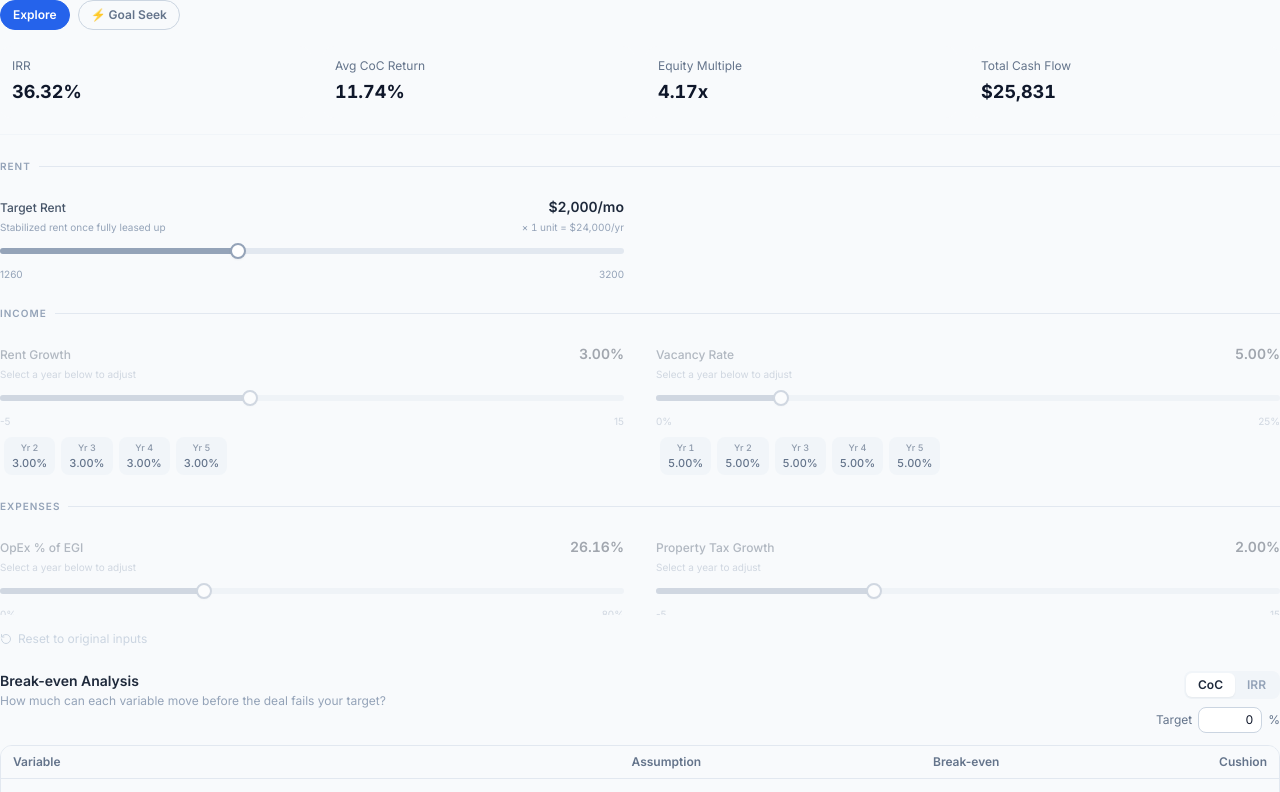
WhatIfPanel break-even mode toggle › switching back to CoC mode restores "n/a for CoC"
Click the button "IRR". click: (1256, 685)
box: [1235,673,1278,697]
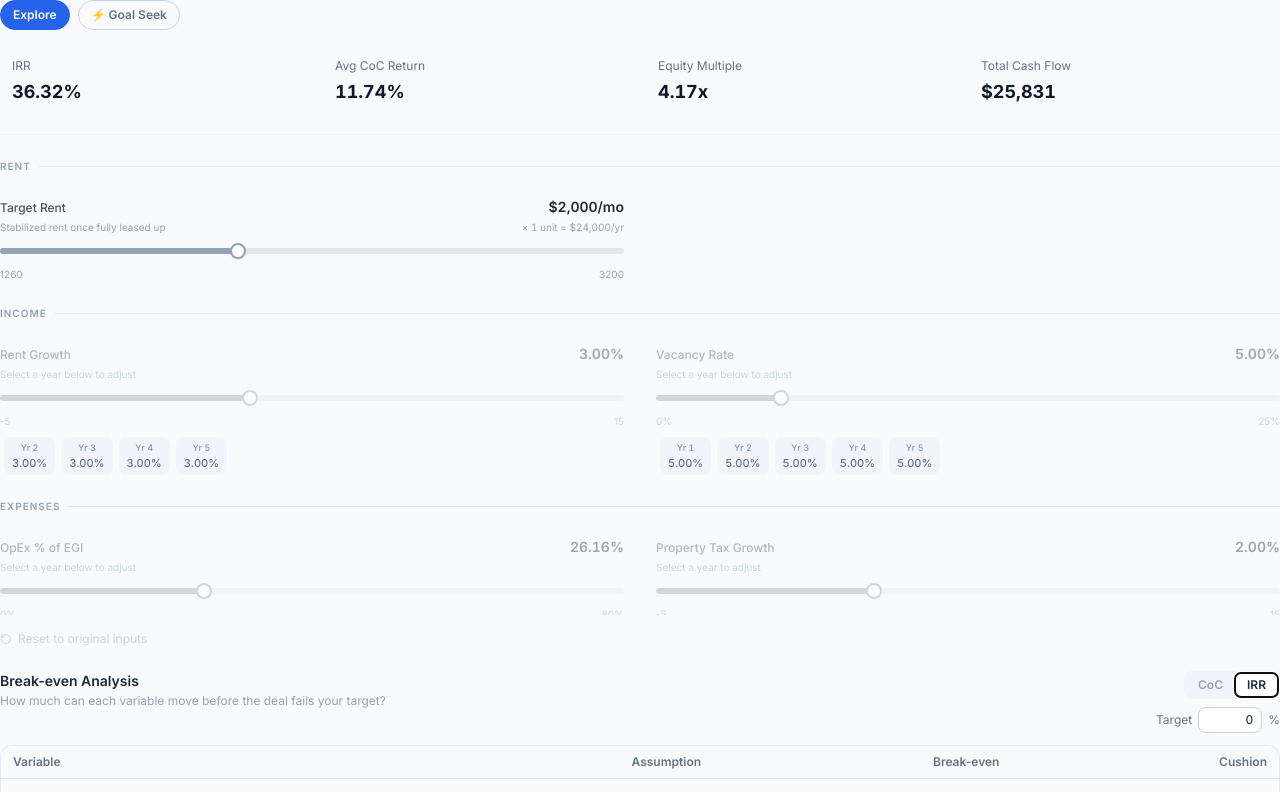
Click the button "CoC". click: (1210, 685)
box: [1186,673,1235,697]
(page scrolled)
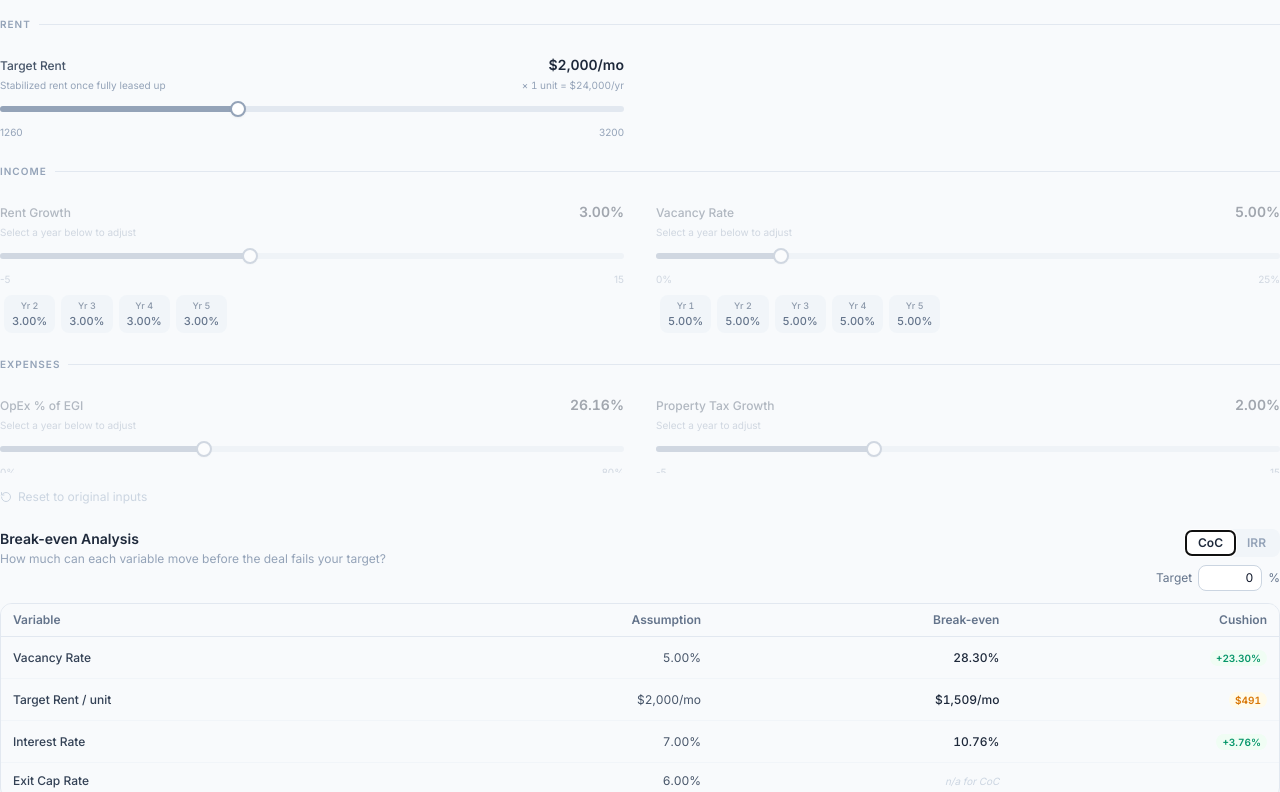
Now the text "n/a for CoC" is shown, box [945,775,999,787]
